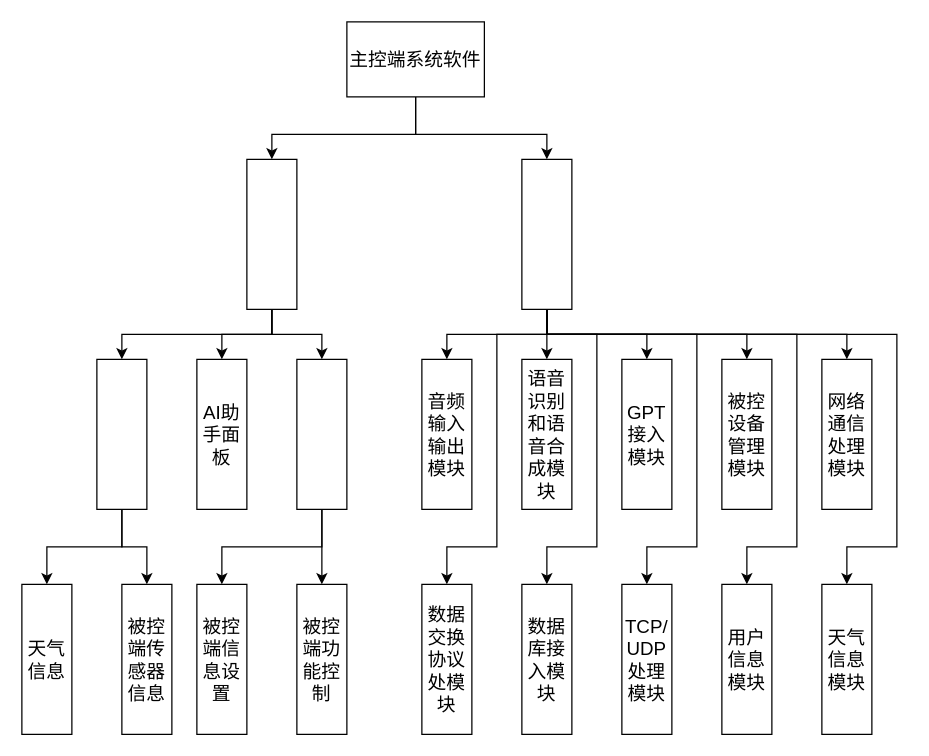
This 929x756 diagram has some shape labels left out. The centre of each missing label's shape, as x and y in pixels:
"后端数据逻辑处理" belongs at point (546, 233).
"图形用户交互界面" belongs at point (271, 233).
"状态信息展示" belongs at point (121, 433).
"被控端信息展示" belongs at point (321, 433).
